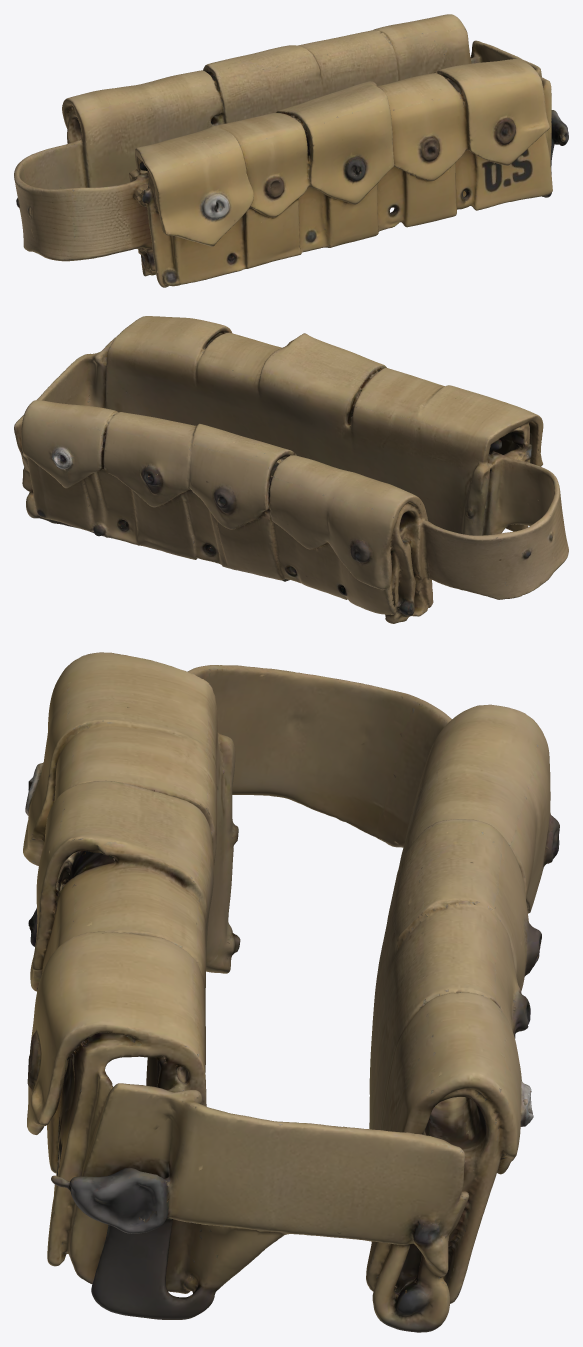
Rendered from Cartridge Belt.glb.
3 views of the same model, one above another, from view 1: azimuth 30°, elevation 25°; view 2: azimuth 150°, elevation 25°; view 3: azimuth 270°, elevation 25° (orthographic). The views are drawn at different scales.
Size of the model in its own units: 2 by 0.6668 by 0.9461.
1 material, 1 textured.
